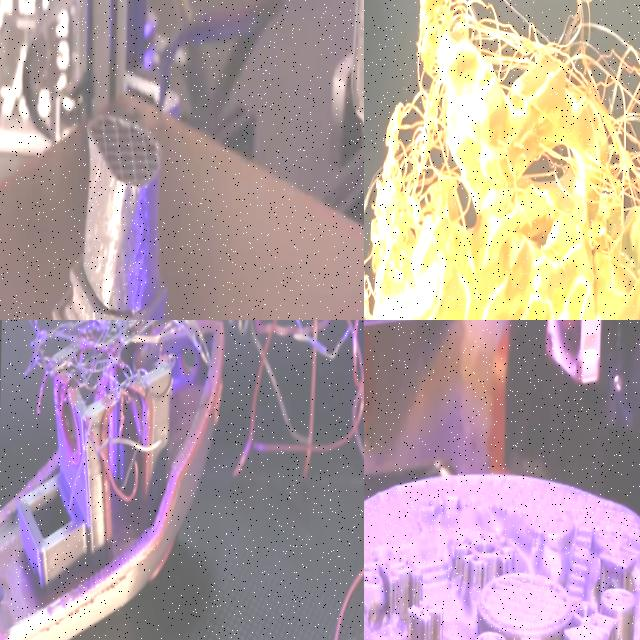spaghetti: (13, 320, 364, 640), (364, 0, 640, 320)
